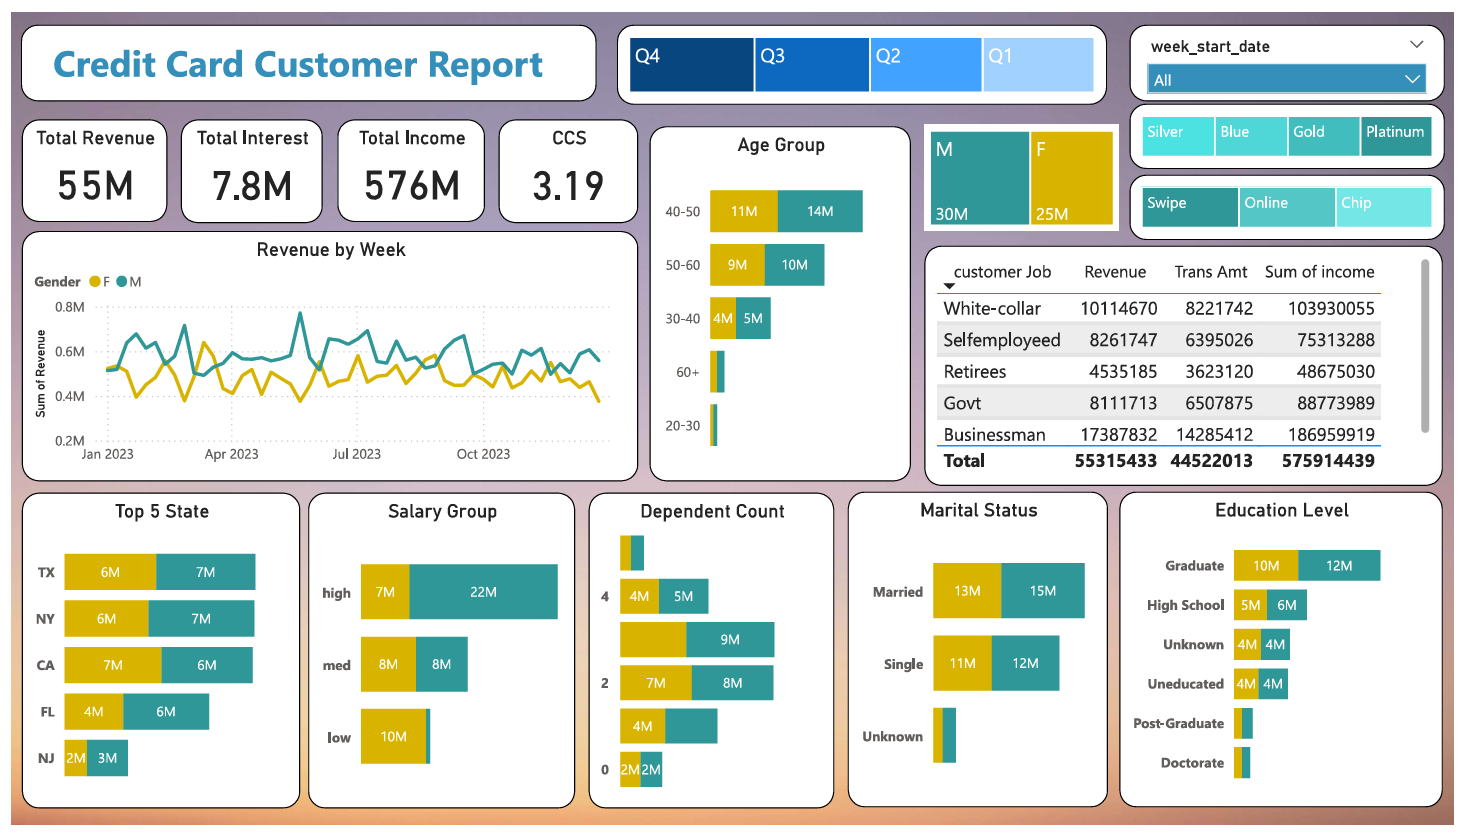

The dashboard page shown, as its layout file describes it:
{"tool":"powerbi","page":{"name":"CC Customer Report","canvas":[1280,720],"ordinal":1},"visuals":[{"type":"textbox","box":[8.3,10.8,510.8,68.3],"z":0},{"type":"barChart","title":"Top 5 State","fields":{"Y":["Sum(public cc_detail.Revenue)"],"Category":["public cust_detail.state_cd"],"Series":["public cust_detail.gender"]},"box":[8.9,425.6,246.7,280],"z":1000},{"type":"card","title":"Total Interest","fields":{"Values":["Sum(public cc_detail.interest_earned)"]},"box":[150,95.5,126.4,91.8],"z":2000},{"type":"card","title":"Total Income","fields":{"Values":["Sum(public cust_detail.income)"]},"box":[289.1,94.5,130.9,91.8],"z":3000},{"type":"card","title":"CCS","fields":{"Values":["Avg(public cust_detail.cust_satisfaction_score)"]},"box":[431.8,95.5,124.5,91.8],"z":4000},{"type":"slicer","fields":{"Values":["public cc_detail.week_start_date"]},"box":[992.1,10.7,280,68.6],"z":5000},{"type":"treemap","fields":{"Group":["public cc_detail.qtr"],"Values":["Avg(public cc_detail.client_num)"]},"box":[536.7,10.8,435,70.8],"z":6000},{"type":"treemap","fields":{"Group":["public cc_detail.card_category"],"Values":["Avg(public cc_detail.client_num)"]},"box":[992.1,81.4,280,57.9],"z":7000},{"type":"card","title":"Total Revenue","fields":{"Values":["Sum(public cc_detail.Revenue)"]},"box":[9.1,94.5,129.1,91.8],"z":8000},{"type":"treemap","fields":{"Group":["public cust_detail.gender"],"Values":["Sum(public cc_detail.Revenue)"]},"box":[810,100,172.5,93.8],"z":9000},{"type":"lineChart","title":"Revenue by Week","fields":{"Y":["Sum(public cc_detail.Revenue)"],"Series":["public cust_detail.gender"],"Category":["public cc_detail.week_start_date.Variation.Date Hierarchy.Year","public cc_detail.week_start_date.Variation.Date Hierarchy.Month","public cc_detail.week_start_date.Variation.Date Hierarchy.Day"]},"box":[8.8,193.8,547.5,222.5],"z":10000},{"type":"barChart","title":"Salary Group","fields":{"Y":["Sum(public cc_detail.Revenue)"],"Category":["public cust_detail.Income_group"],"Series":["public cust_detail.gender"]},"box":[263.3,425.6,236.7,280],"z":11000},{"type":"barChart","title":"Age Group","fields":{"Y":["Sum(public cc_detail.Revenue)"],"Series":["public cust_detail.gender"],"Category":["public cust_detail.Age_group"]},"box":[566.2,101.2,231.2,315],"z":12000},{"type":"barChart","title":"Dependent Count","fields":{"Y":["Sum(public cc_detail.Revenue)"],"Series":["public cust_detail.gender"],"Category":["public cust_detail.dependent_count"]},"box":[512.2,425.6,217.8,280],"z":13000},{"type":"barChart","title":"Marital Status","fields":{"Y":["Sum(public cc_detail.Revenue)"],"Series":["public cust_detail.gender"],"Category":["public cust_detail.marital_status"]},"box":[742,425,231,280],"z":14000},{"type":"barChart","title":"Education Level","fields":{"Y":["Sum(public cc_detail.Revenue)"],"Series":["public cust_detail.gender"],"Category":["public cust_detail.education_level"]},"box":[982.5,425,287.5,280],"z":15000},{"type":"tableEx","fields":{"Values":["public cust_detail.customer_job","Sum(public cc_detail.Revenue)","Sum(public cc_detail.total_trans_amt)","Sum(public cust_detail.income)"]},"box":[810,207.1,460,213.3],"z":16000},{"type":"treemap","fields":{"Values":["Avg(public cc_detail.client_num)"],"Group":["public cc_detail.use_chip"]},"box":[992.1,143.6,280,58.6],"z":17000}]}

Visuals, with their boxes in screenshot pixels (x1, y1, x2, y2), scaled from the page's 1280x720 canvas onto the 1463x832 screenshot:
textbox: <bbox>9, 12, 593, 91</bbox>
"Top 5 State" barChart: <bbox>10, 492, 292, 815</bbox>
"Total Interest" card: <bbox>171, 110, 316, 216</bbox>
"Total Income" card: <bbox>330, 109, 480, 215</bbox>
"CCS" card: <bbox>494, 110, 636, 216</bbox>
slicer - public cc_detail.week_start_date: <bbox>1134, 12, 1454, 92</bbox>
treemap - public cc_detail.qtr x Avg(public cc_detail.client_num): <bbox>613, 12, 1111, 94</bbox>
treemap - public cc_detail.card_category x Avg(public cc_detail.client_num): <bbox>1134, 94, 1454, 161</bbox>
"Total Revenue" card: <bbox>10, 109, 158, 215</bbox>
treemap - public cust_detail.gender x Sum(public cc_detail.Revenue): <bbox>926, 116, 1123, 224</bbox>
"Revenue by Week" lineChart: <bbox>10, 224, 636, 481</bbox>
"Salary Group" barChart: <bbox>301, 492, 571, 815</bbox>
"Age Group" barChart: <bbox>647, 117, 911, 481</bbox>
"Dependent Count" barChart: <bbox>585, 492, 834, 815</bbox>
"Marital Status" barChart: <bbox>848, 491, 1112, 815</bbox>
"Education Level" barChart: <bbox>1123, 491, 1452, 815</bbox>
tableEx - public cust_detail.customer_job x Sum(public cc_detail.Revenue): <bbox>926, 239, 1452, 486</bbox>
treemap - Avg(public cc_detail.client_num) x public cc_detail.use_chip: <bbox>1134, 166, 1454, 234</bbox>
